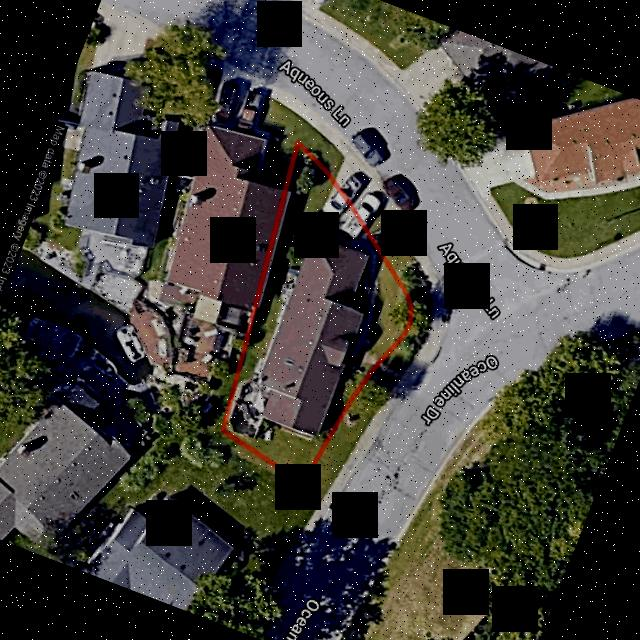Driveway: (316, 187, 362, 241)
Extra Lawn: (303, 412, 372, 497), (299, 124, 342, 177), (382, 237, 415, 273), (384, 344, 412, 372), (369, 211, 391, 233)
House: (261, 237, 367, 436)
Other: (229, 382, 264, 436)
